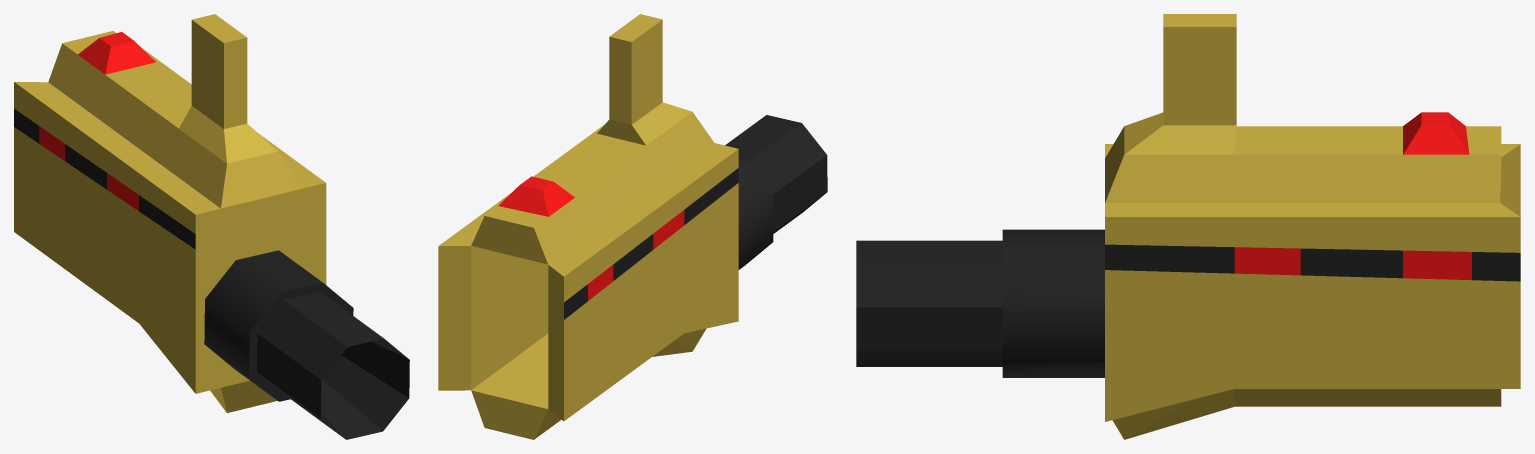
File: LAZAR.FBX
3 views of the same model, side by side, from view 1: azimuth 30°, elevation 25°; view 2: azimuth 150°, elevation 25°; view 3: azimuth 270°, elevation 25° (orthographic). The views are drawn at different scales.
Visible parts, largest first — view 1: Cylinder009; view 2: Cylinder009; view 3: Cylinder009.
Part boxes in pixels (x1,y1,x2,y2): Cylinder009: [14, 14, 409, 439]; Cylinder009: [438, 14, 827, 439]; Cylinder009: [856, 14, 1520, 439].
Size of the model in its own units: 3.7 by 9.58 by 14.23.
